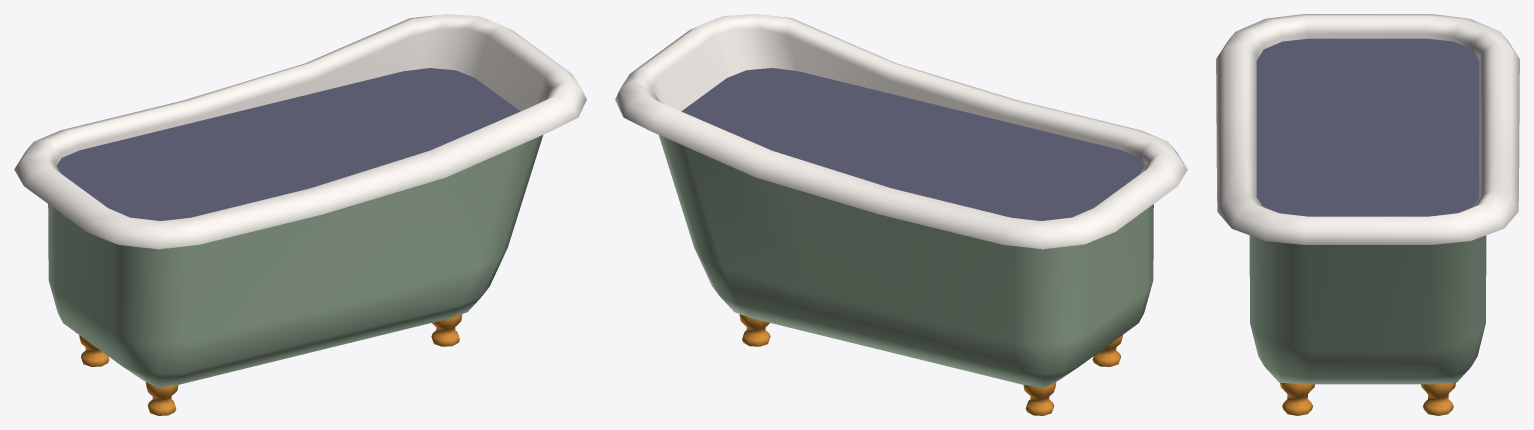
Rendered from Bathtub.gltf.
3 views of the same model, side by side, from view 1: azimuth 30°, elevation 25°; view 2: azimuth 150°, elevation 25°; view 3: azimuth 270°, elevation 25° (orthographic). The views are drawn at different scales.
Parts seen in each view (by area): view 1: Bathtub, Bathtub_Water; view 2: Bathtub, Bathtub_Water; view 3: Bathtub, Bathtub_Water.
Boxes of the visible parts, <box> form: Bathtub: <box>14,14,586,415</box>; Bathtub_Water: <box>56,68,520,220</box>; Bathtub: <box>615,14,1187,415</box>; Bathtub_Water: <box>681,68,1145,220</box>; Bathtub: <box>1216,14,1519,415</box>; Bathtub_Water: <box>1256,38,1479,253</box>.
Bounding box in the file's own units: 161 × 75.73 × 82.08.
2 materials, 2 textured.
